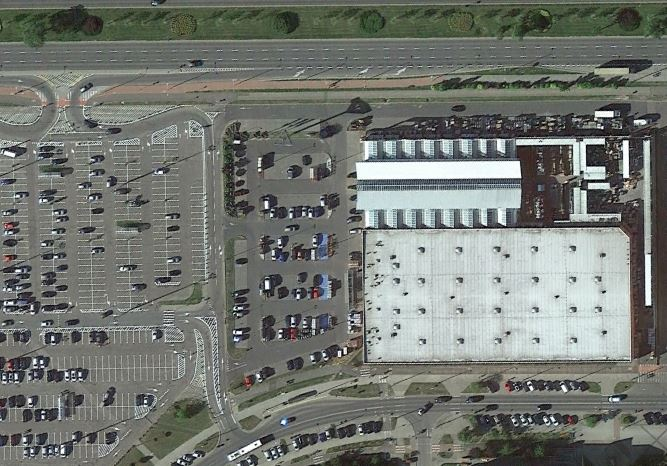shopping_center: (354, 221, 637, 366), (353, 133, 526, 230)
